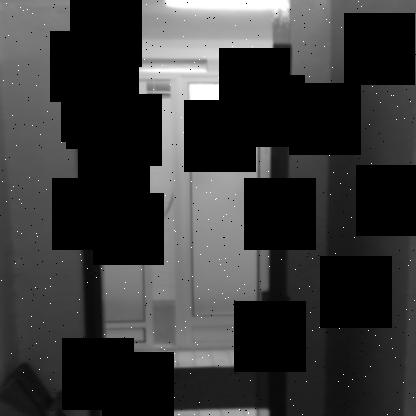Porte: (70, 43, 296, 415)
